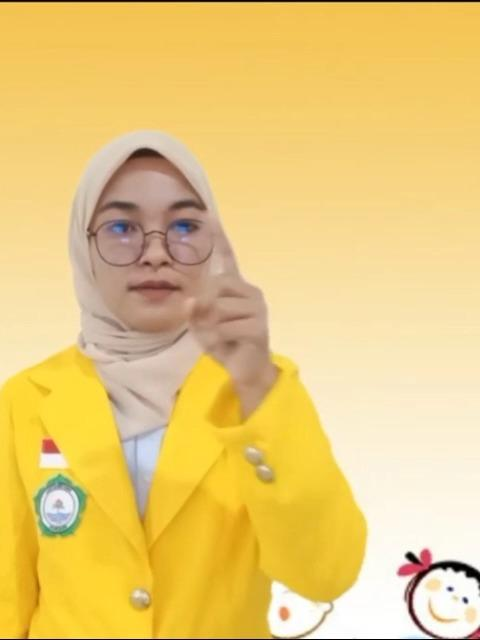Z: (181, 212, 273, 382)
